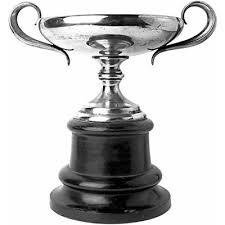trophy: (7, 1, 219, 225)
